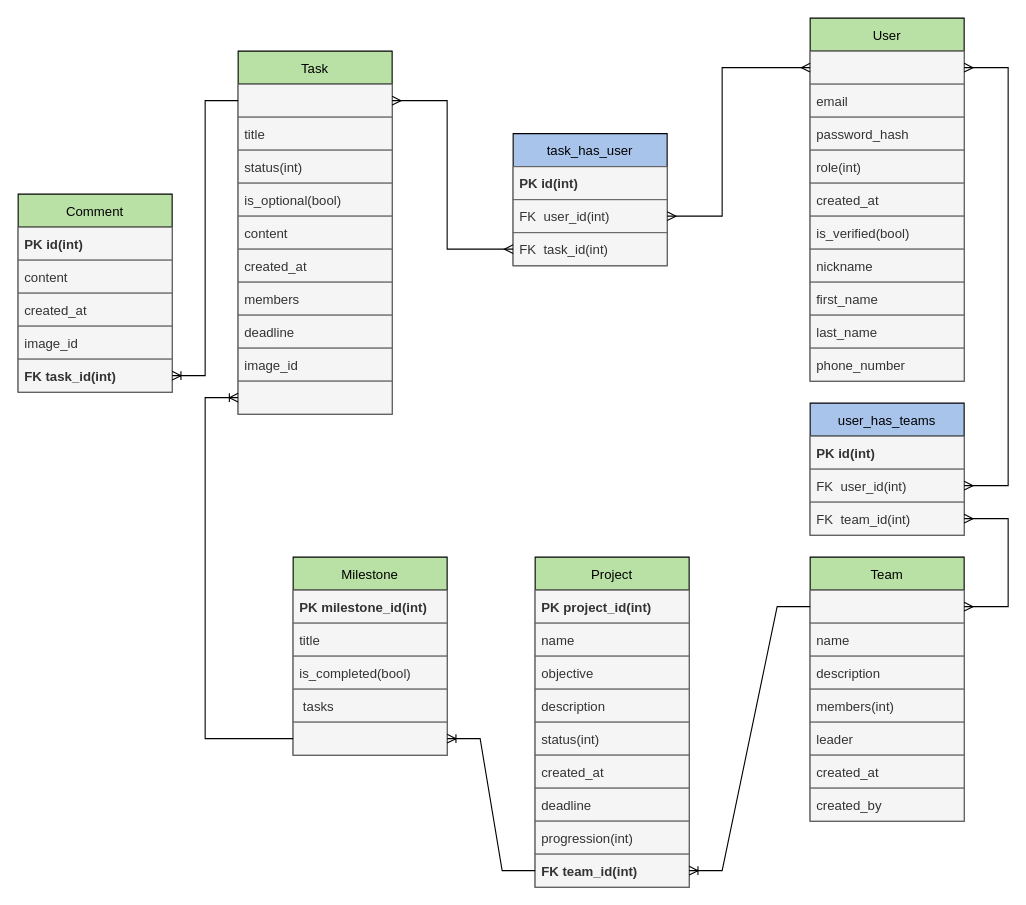
This 1026x905 diagram has some shape labels left out. Here are the shapes that lost their labels. From the top down, the centre of each, then its label:
At point (886, 67): "PK user_id(int)".
At point (314, 100): "PK task_id(int)".
At point (314, 397): "FK milestone_id(int)".
At point (886, 606): "PK team_id(int)".
At point (369, 738): "FK project_id(int)".
